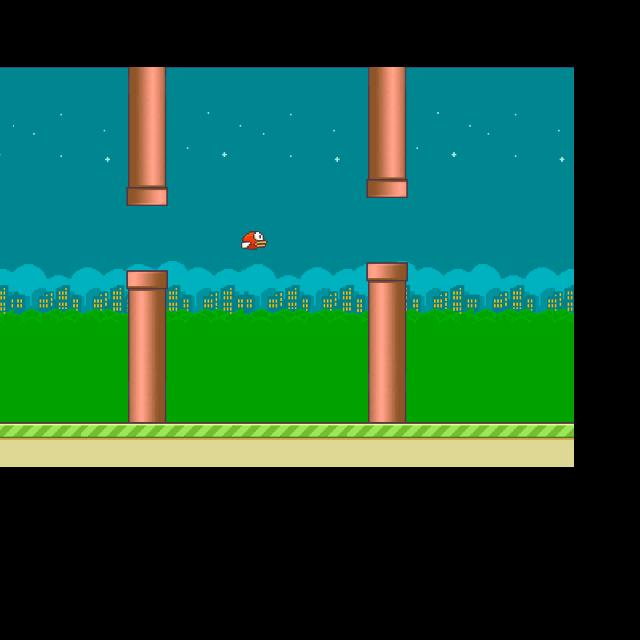bird: (241, 231, 267, 250)
pipedown: (366, 262, 408, 420), (125, 270, 167, 419)
pipeup: (125, 68, 167, 206), (365, 70, 407, 198)
